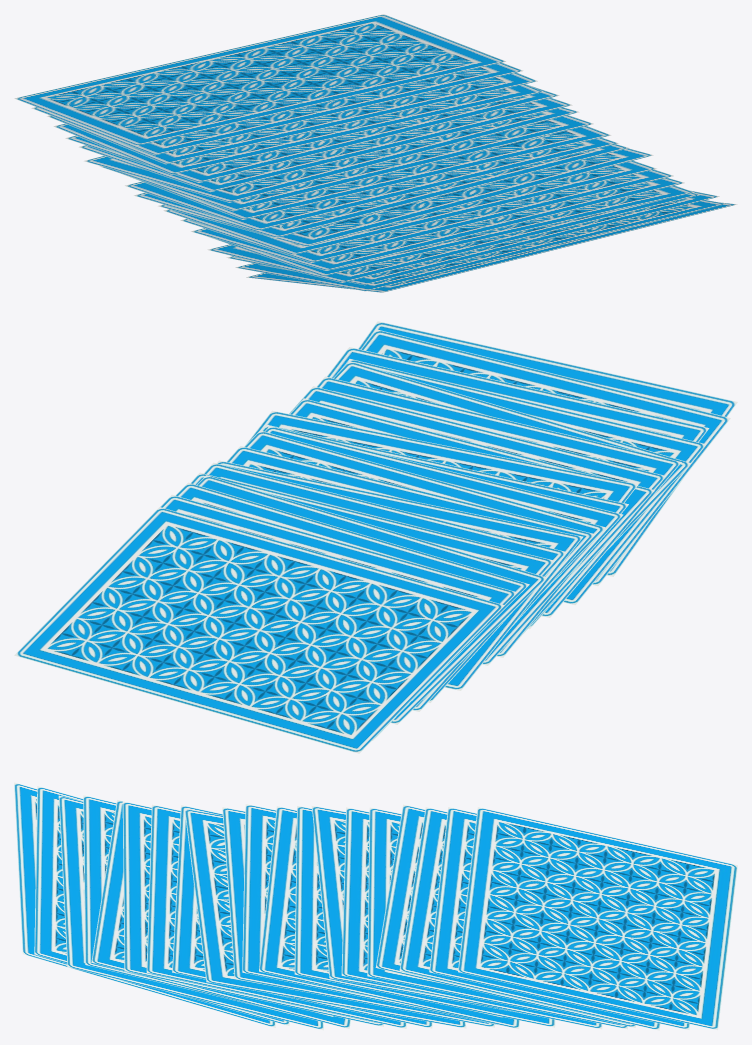
The picture shows the model from 3 angles, top to bottom: view 1: azimuth 30°, elevation 25°; view 2: azimuth 150°, elevation 25°; view 3: azimuth 270°, elevation 25°; orthographic projection. The views are drawn at different scales.
Visible parts, largest first — view 1: Cards; view 2: Cards; view 3: Cards.
Boxes of the visible parts, left/top/right/bottom form: Cards: left=14, top=14, right=737, bottom=292; Cards: left=14, top=321, right=737, bottom=753; Cards: left=14, top=782, right=737, bottom=1030.
Size of the model in its own units: 1.59 by 0.3287 by 2.71.
Materials: 1 (1 with a texture image).
